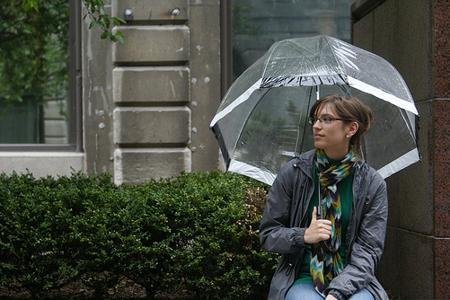person: (259, 95, 390, 300)
